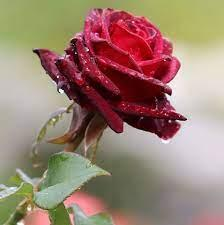Rose: (27, 4, 192, 147)
